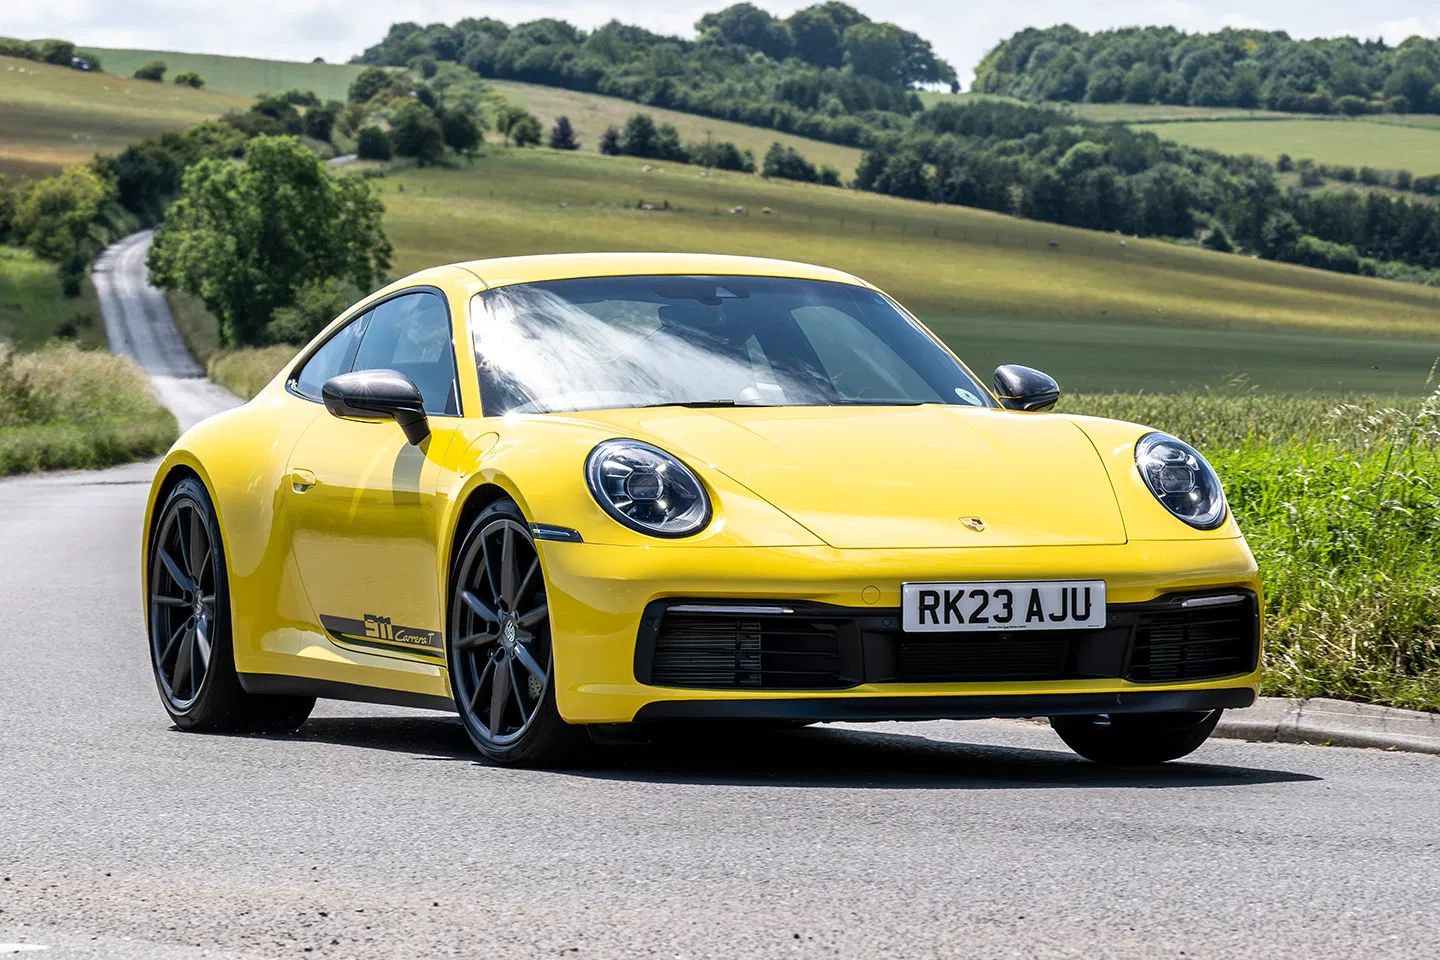car: (134, 246, 1278, 780)
